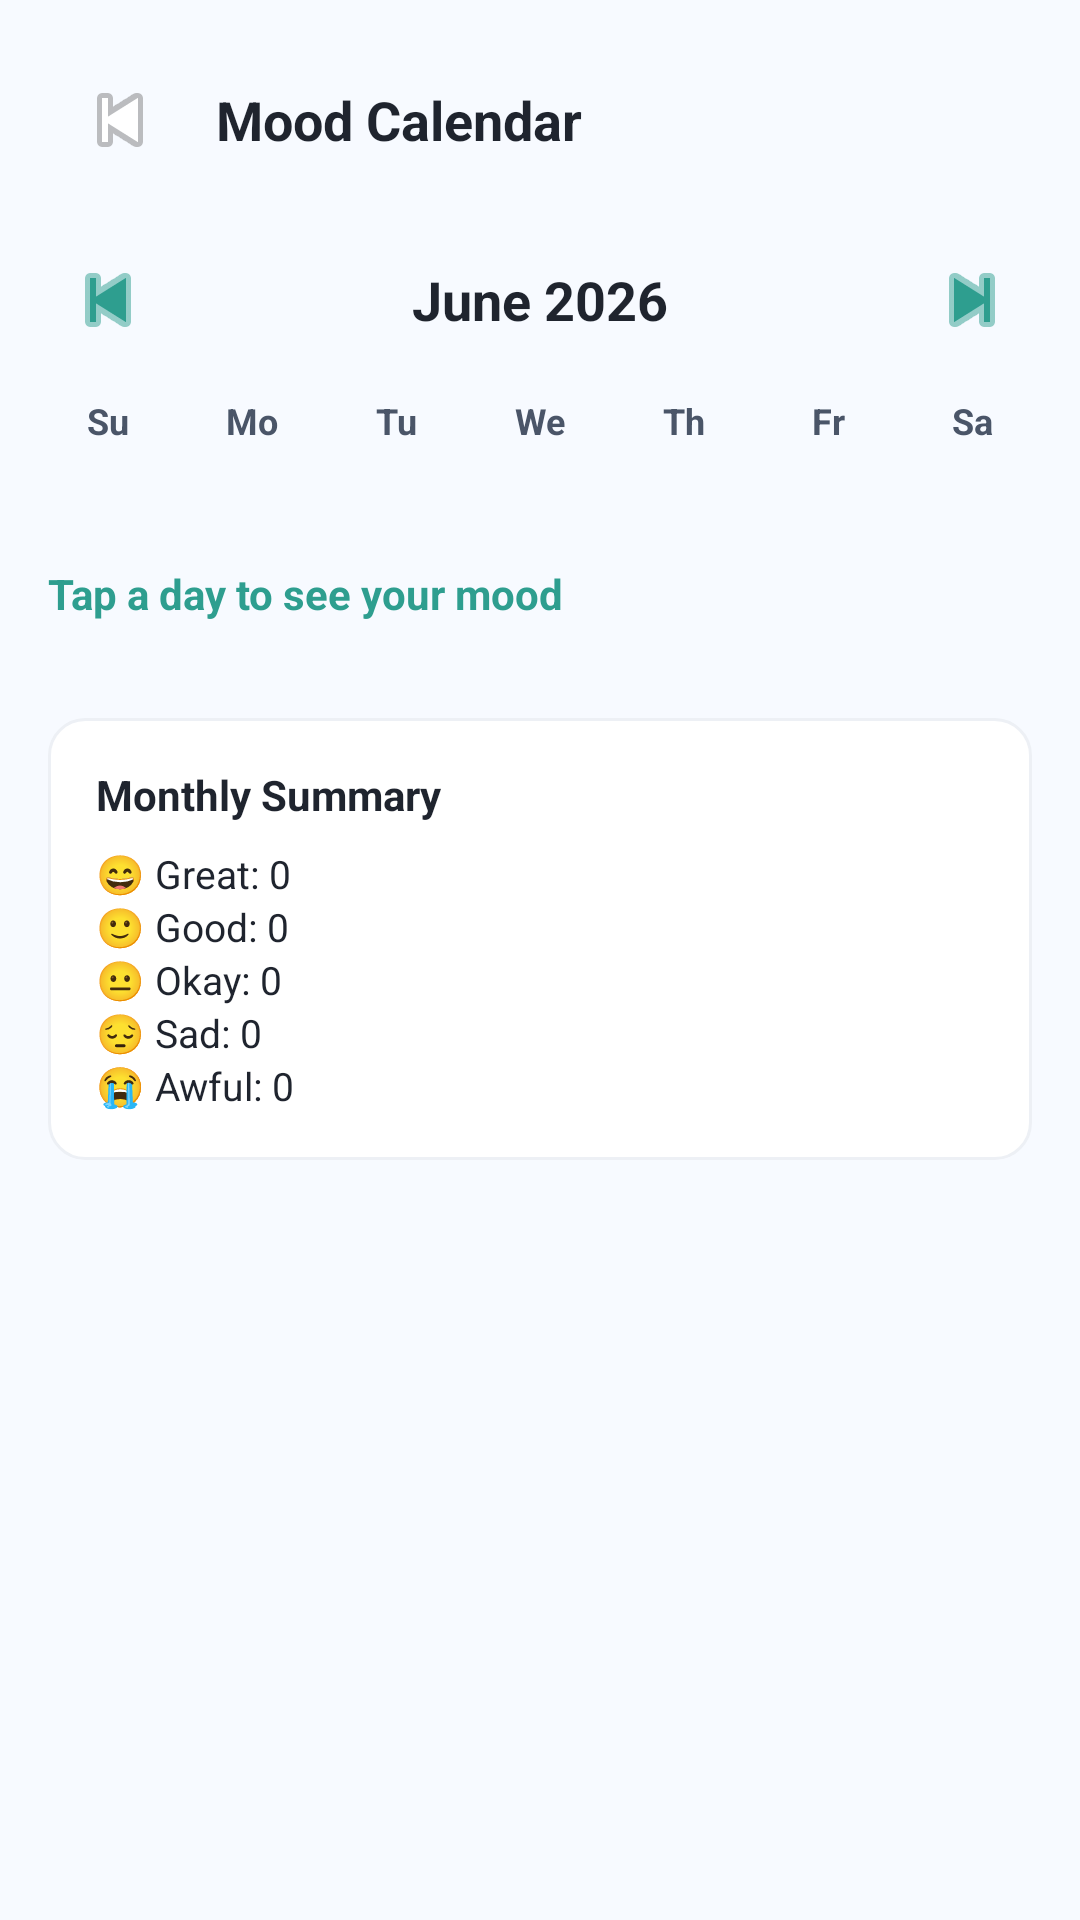

Screen size 1080 x 1920. Icon name, then its center in pixels as point (x, y):
Back: point (120, 120)
Next Month: point (972, 300)
Previous Month: point (108, 300)
